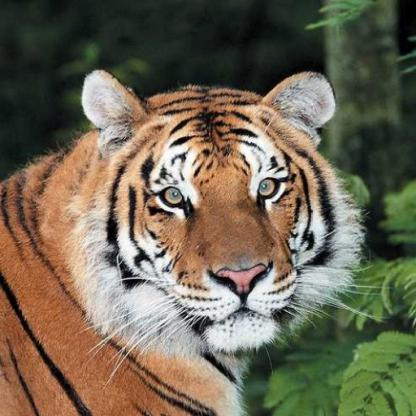Tiger: (0, 28, 385, 415)
